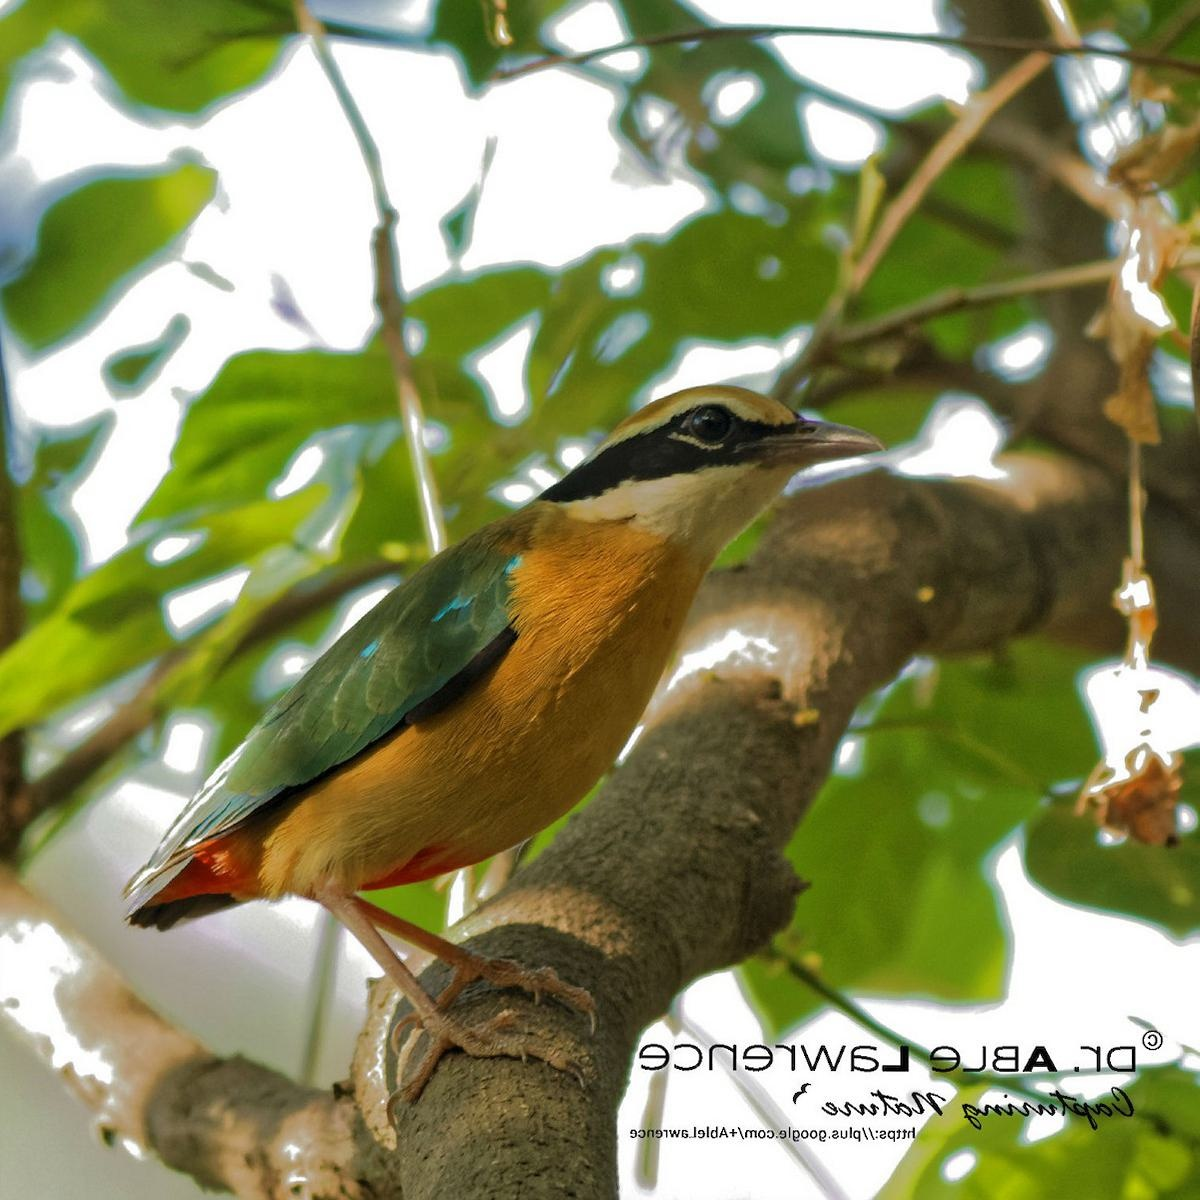pitta: (142, 327, 895, 933)
